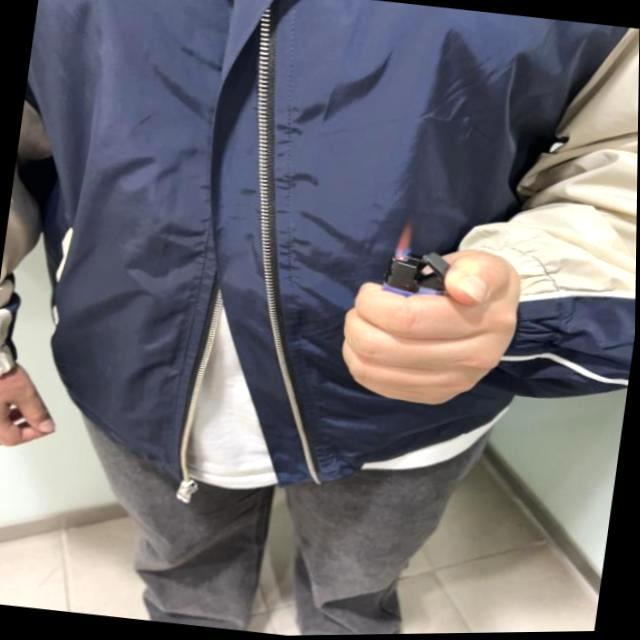fire: (392, 223, 416, 264)
